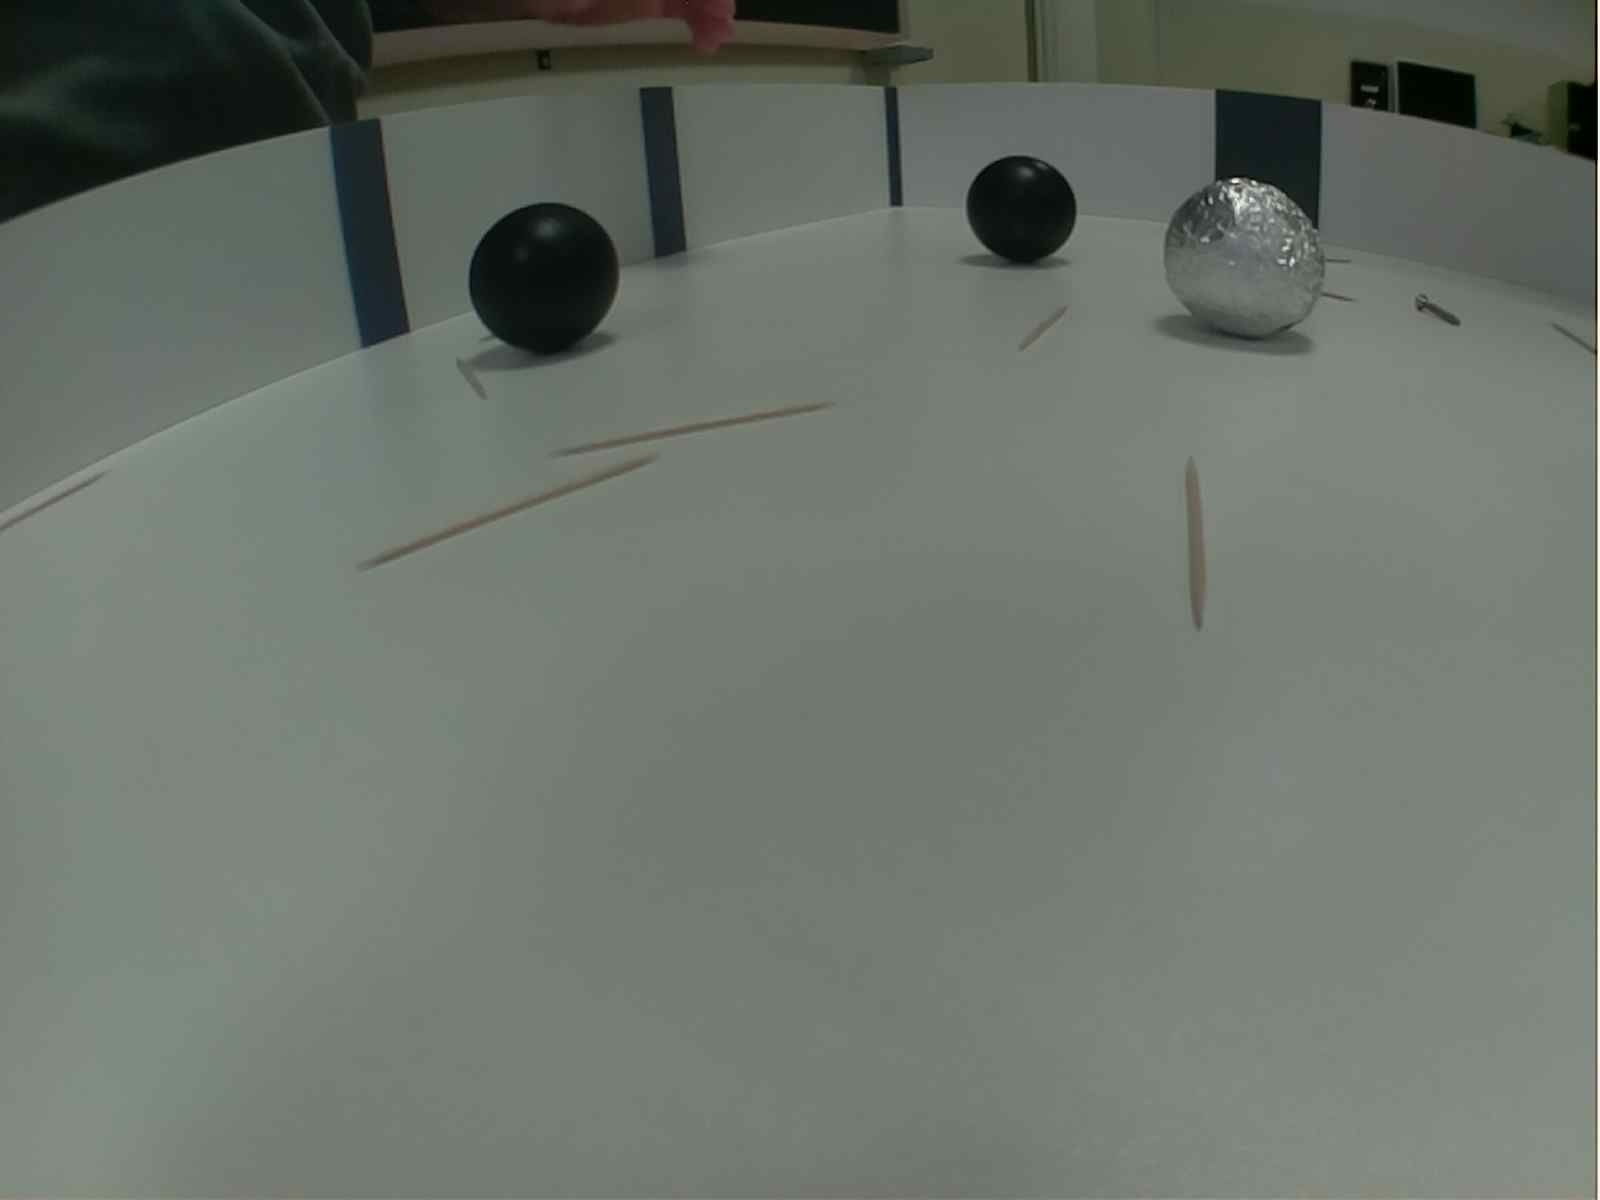bianca: (1159, 176, 1327, 343)
nera: (466, 202, 621, 357), (961, 153, 1075, 267)
